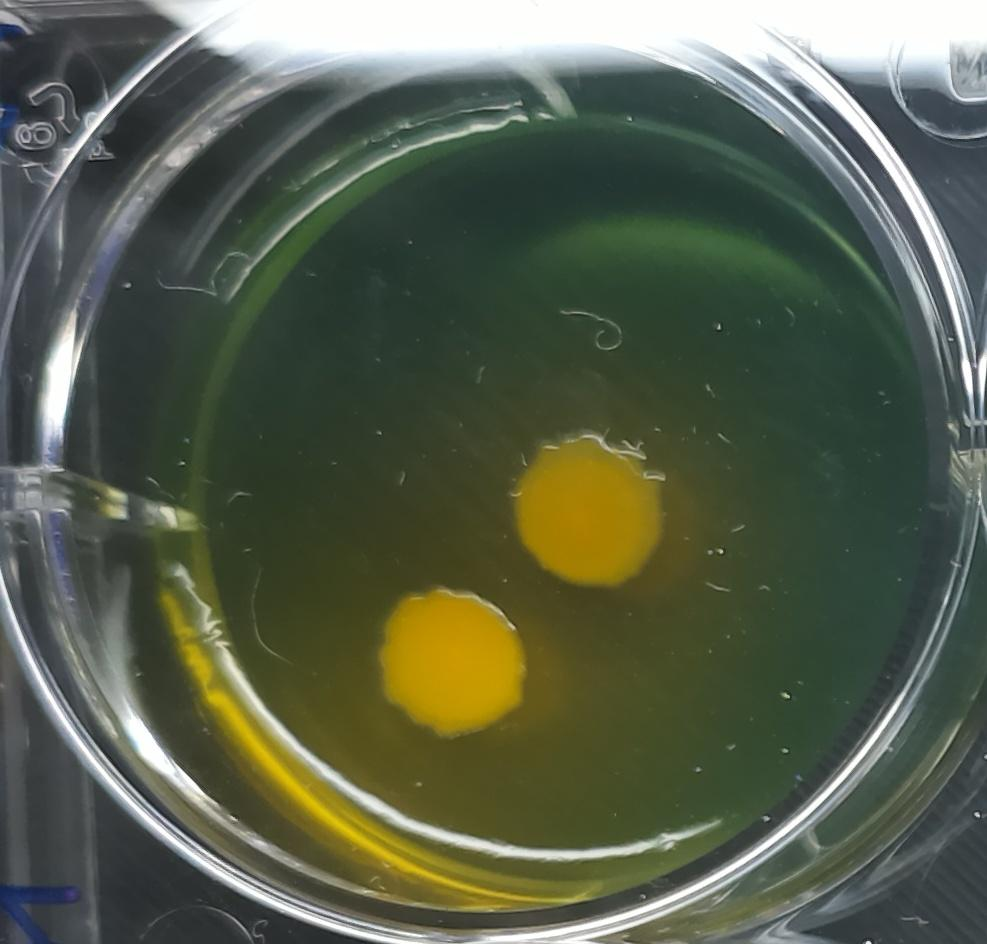vharveyi: (494, 416, 673, 594), (360, 578, 534, 750)
